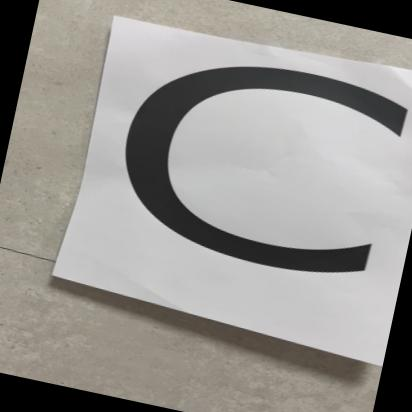seat: (64, 21, 412, 345)
